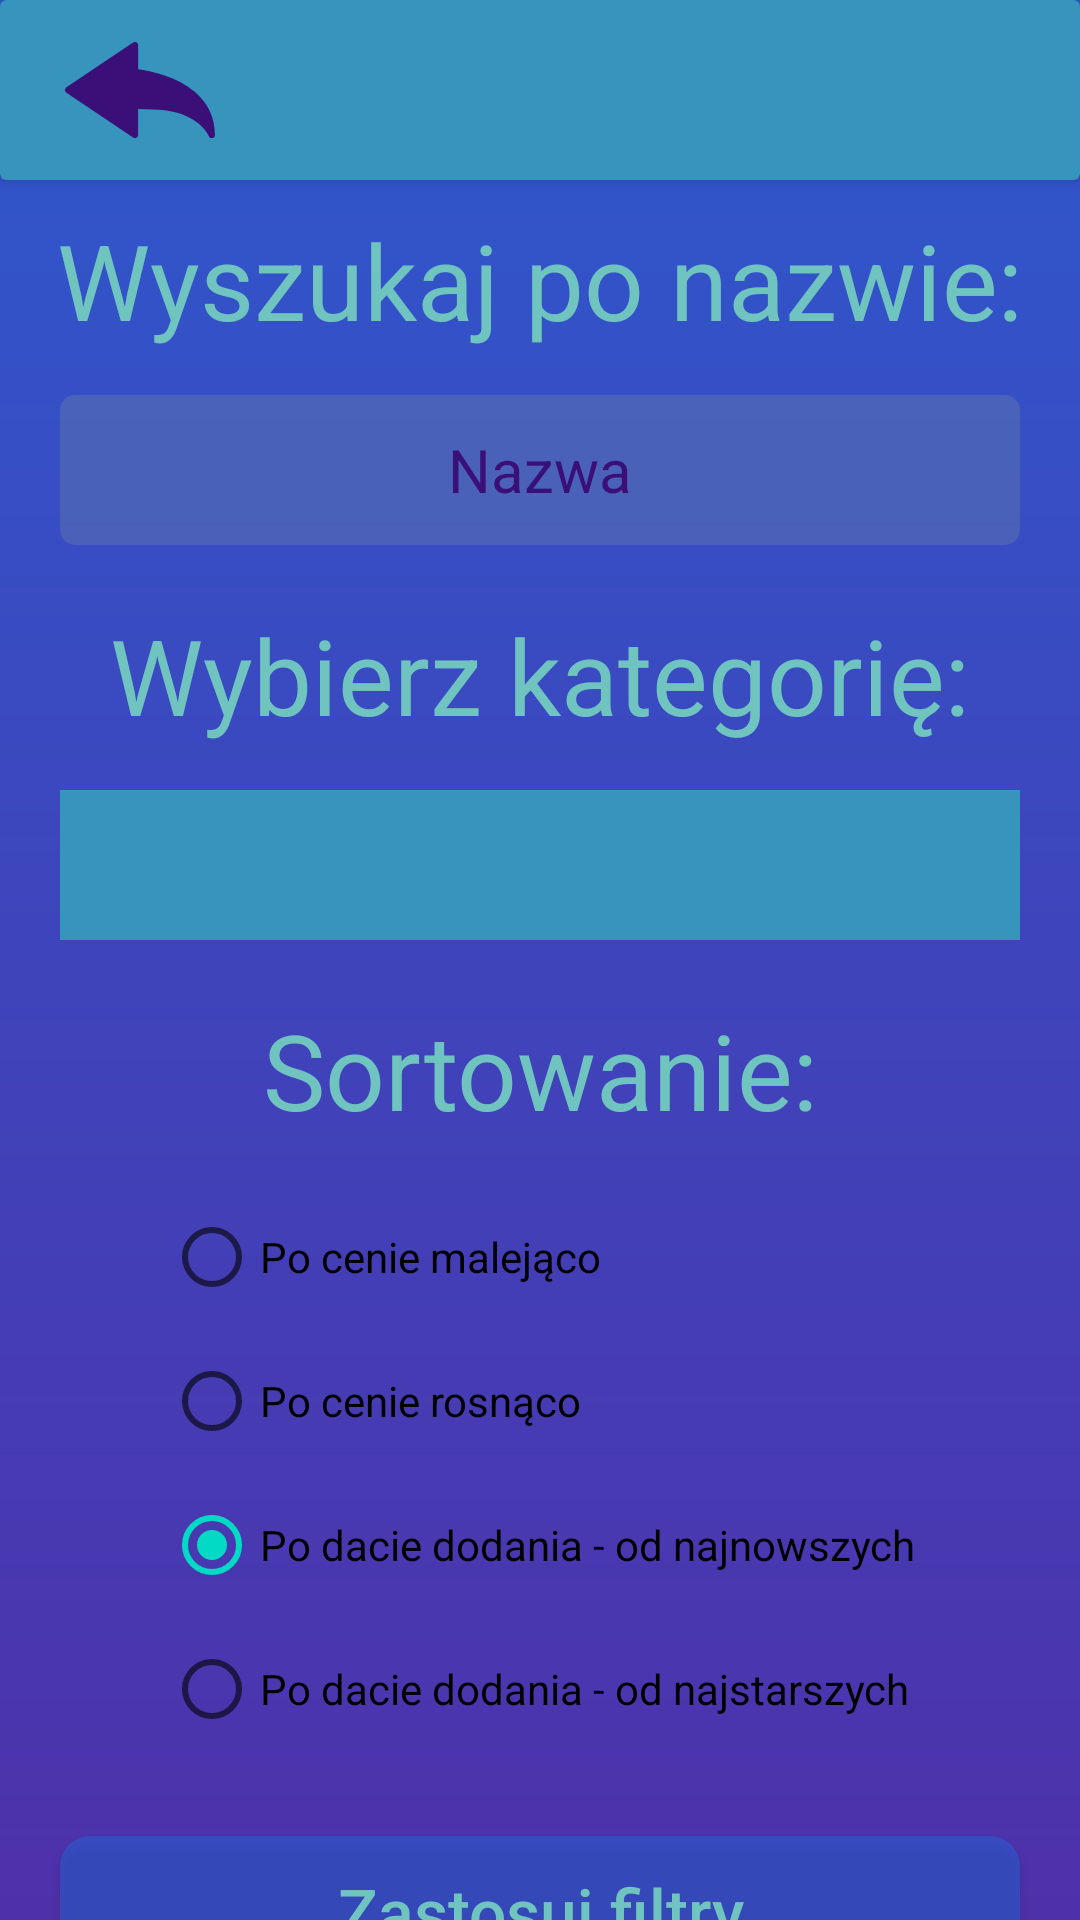

Icon click points for this 1080 x 1920 phone screenshot, format [x,y]:
back arrow: [140,90]
